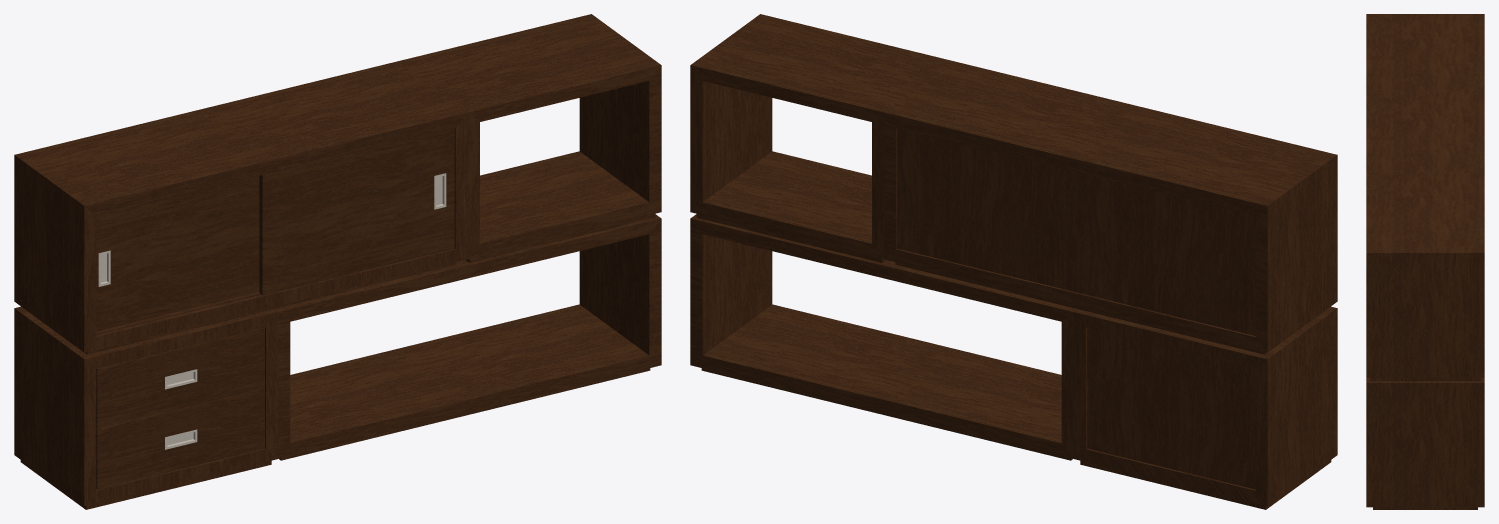
File: bookcase & shelves.glb
The picture shows the model from 3 angles, left to right: view 1: azimuth 30°, elevation 25°; view 2: azimuth 150°, elevation 25°; view 3: azimuth 270°, elevation 25°; orthographic projection. The views are drawn at different scales.
Parts seen in each view (by area): view 1: Mesh3_Wood028_2K_JPG_Color_0, Mesh2_Wood028_2K_JPG_Color_0, Mesh17_Wood028_2K_JPG_Color_0, Mesh6_Wood028_2K_JPG_Color_0, Mesh1_Wood028_2K_JPG_Color_0, Mesh12_Wood028_2K_JPG_Color_0, Mesh19_Wood028_2K_JPG_Color_0, Mesh21_Wood028_2K_JPG_Color_0; view 2: Mesh3_Wood028_2K_JPG_Color_0, Mesh2_Wood028_2K_JPG_Color_0, Mesh4_Wood028_2K_JPG_Color_0, Mesh1_Wood028_2K_JPG_Color_0, Mesh17_Wood028_2K_JPG_Color_0; view 3: Mesh17_Wood028_2K_JPG_Color_0, Mesh3_Wood028_2K_JPG_Color_0, Mesh2_Wood028_2K_JPG_Color_0.
Part boxes in pixels (x1=…): Mesh3_Wood028_2K_JPG_Color_0: x1=14, y1=61, x2=467, y2=354; Mesh2_Wood028_2K_JPG_Color_0: x1=274, y1=214, x2=661, y2=460; Mesh17_Wood028_2K_JPG_Color_0: x1=398, y1=14, x2=661, y2=262; Mesh6_Wood028_2K_JPG_Color_0: x1=259, y1=128, x2=454, y2=295; Mesh1_Wood028_2K_JPG_Color_0: x1=14, y1=306, x2=277, y2=509; Mesh12_Wood028_2K_JPG_Color_0: x1=96, y1=176, x2=259, y2=331; Mesh19_Wood028_2K_JPG_Color_0: x1=96, y1=388, x2=264, y2=489; Mesh21_Wood028_2K_JPG_Color_0: x1=96, y1=328, x2=264, y2=428; Mesh3_Wood028_2K_JPG_Color_0: x1=884, y1=61, x2=1337, y2=354; Mesh2_Wood028_2K_JPG_Color_0: x1=690, y1=214, x2=1077, y2=460; Mesh4_Wood028_2K_JPG_Color_0: x1=897, y1=128, x2=1255, y2=335; Mesh1_Wood028_2K_JPG_Color_0: x1=1074, y1=306, x2=1337, y2=509; Mesh17_Wood028_2K_JPG_Color_0: x1=690, y1=14, x2=953, y2=262; Mesh17_Wood028_2K_JPG_Color_0: x1=1366, y1=172, x2=1484, y2=381; Mesh3_Wood028_2K_JPG_Color_0: x1=1366, y1=14, x2=1484, y2=172; Mesh2_Wood028_2K_JPG_Color_0: x1=1366, y1=377, x2=1484, y2=509.
Bounding box in the file's own units: 0.715 × 0.363 × 0.15.
2 materials, 2 textured.
